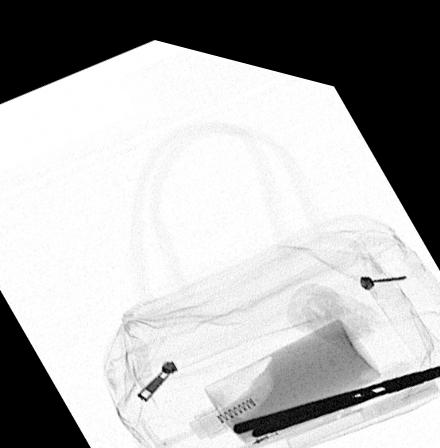Pliers: (230, 343, 440, 423)
